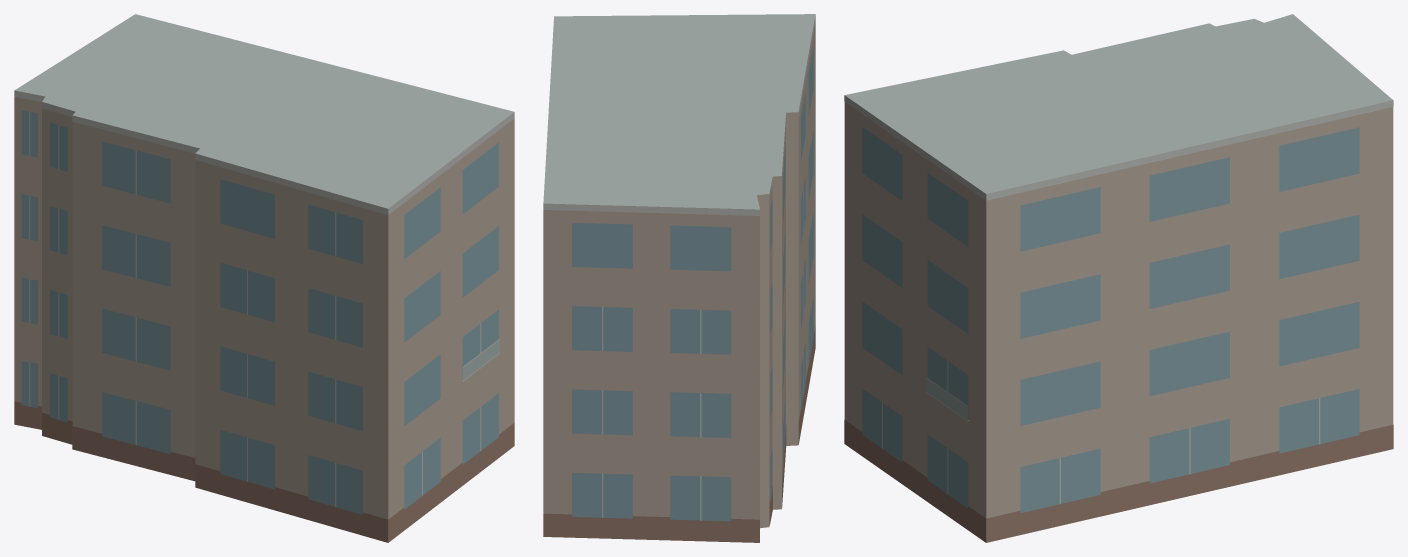
The model's file is survey-upis-32612737.glb.
The picture shows the model from 3 angles, left to right: view 1: azimuth 30°, elevation 25°; view 2: azimuth 150°, elevation 25°; view 3: azimuth 270°, elevation 25°; orthographic projection. The views are drawn at different scales.
Visible parts, largest first — view 1: survey-upis-32612737.tmp; view 2: survey-upis-32612737.tmp; view 3: survey-upis-32612737.tmp.
Part boxes in pixels (left/top/right/bottom): survey-upis-32612737.tmp: left=14, top=14, right=514, bottom=542; survey-upis-32612737.tmp: left=543, top=14, right=815, bottom=542; survey-upis-32612737.tmp: left=844, top=14, right=1393, bottom=542.
Bounding box in the file's own units: 14.18 × 12.8 × 18.26.
